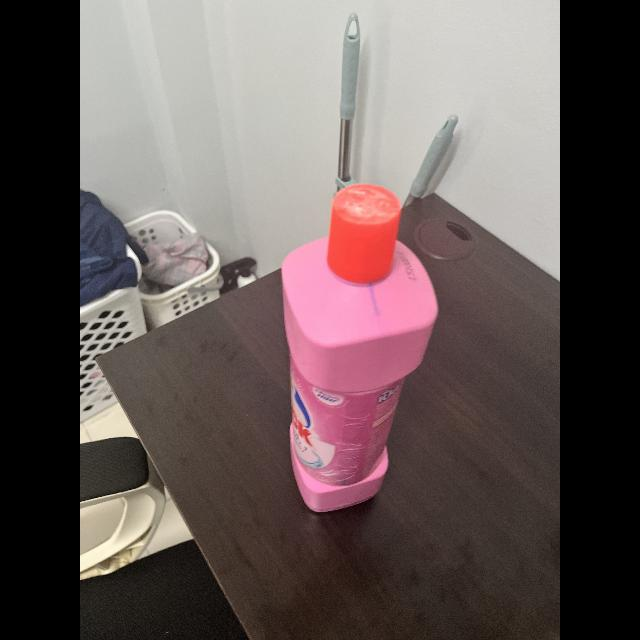chemical_plastic_bottle: (280, 180, 446, 520)
